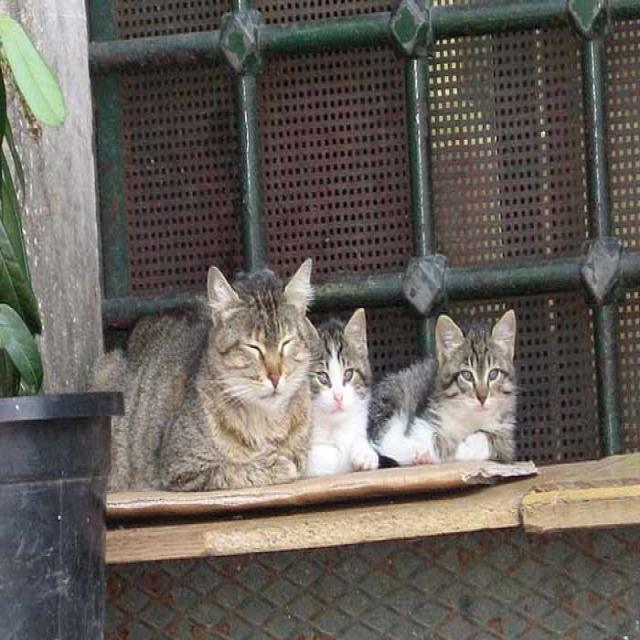cat: (92, 259, 311, 489), (369, 310, 516, 464), (306, 308, 379, 476)
